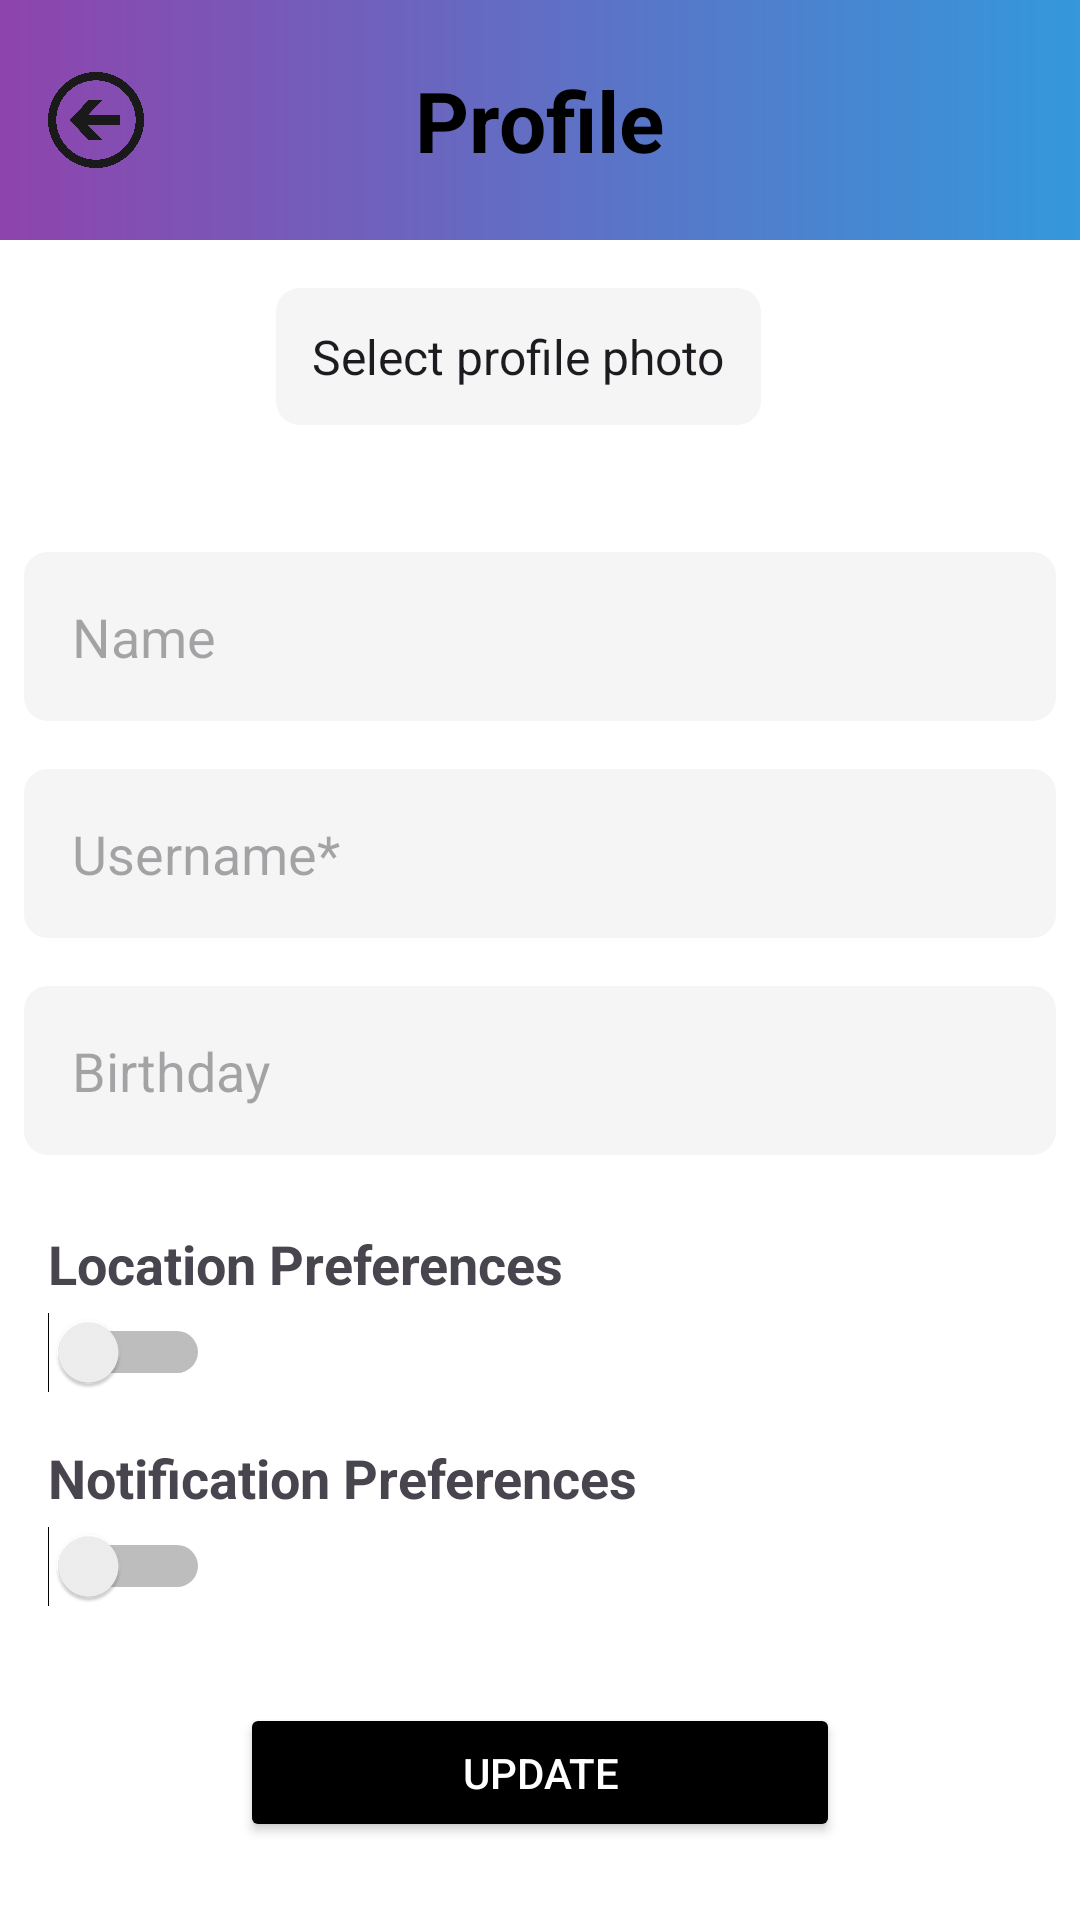

Where to tap for icons on this 1080px×1920px app screen, as (x,y):
Back Button: (96,120)
